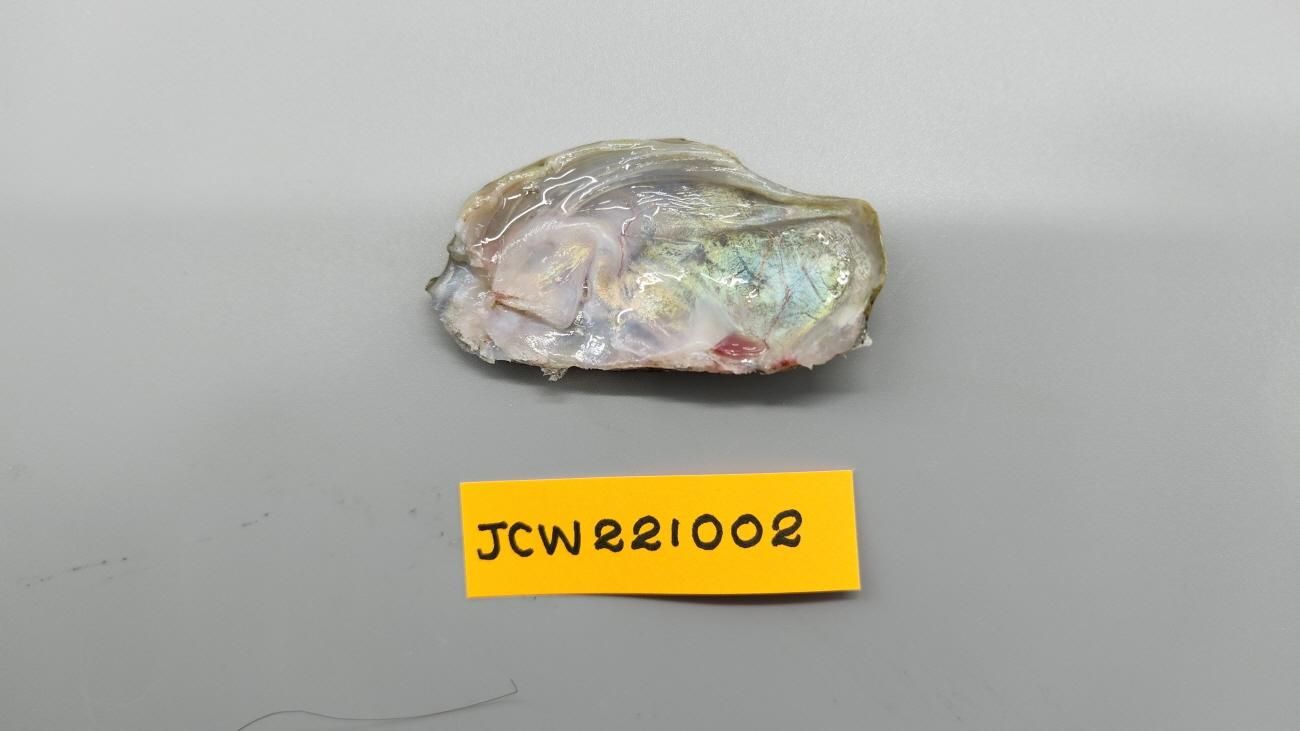POGCN: (429, 138, 891, 381)
